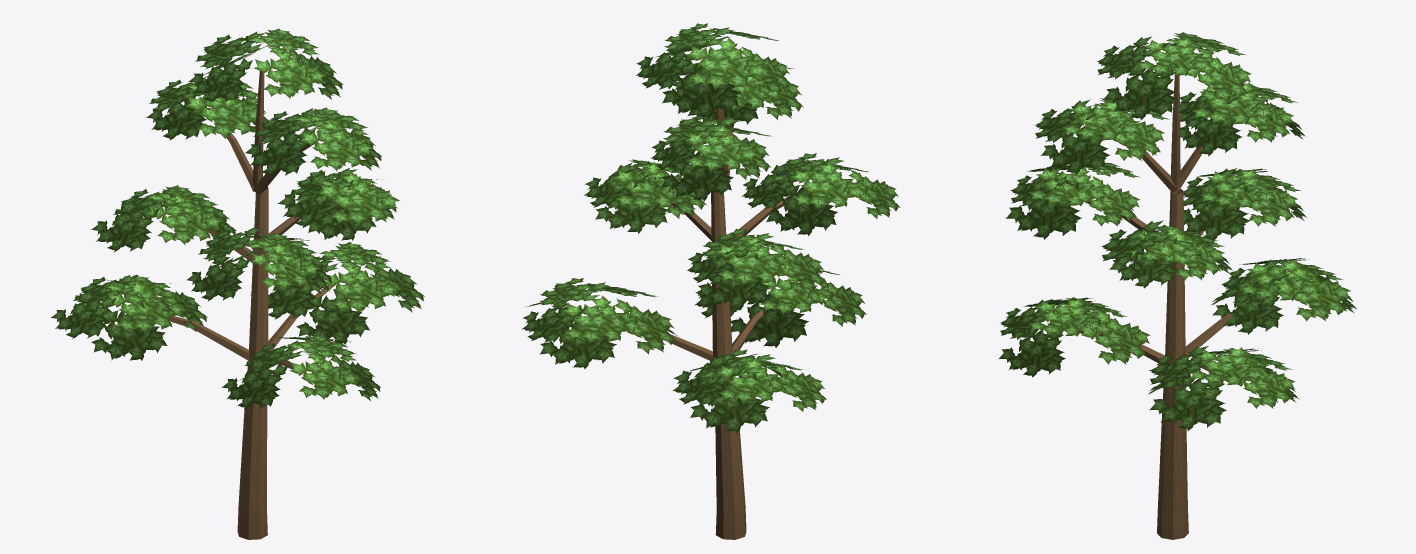
Rendered from maple_b.glb.
The picture shows the model from 3 angles, left to right: view 1: azimuth 30°, elevation 25°; view 2: azimuth 150°, elevation 25°; view 3: azimuth 270°, elevation 25°; orthographic projection.
Parts seen in each view (by area): view 1: maple_b; view 2: maple_b; view 3: maple_b.
Boxes of the visible parts, bbox=[...] form: maple_b: bbox=[50, 28, 424, 539]; maple_b: bbox=[522, 23, 900, 539]; maple_b: bbox=[998, 32, 1357, 539].
Bounding box in the file's own units: 4.89 × 5.88 × 4.63.
2 materials, 2 textured.
